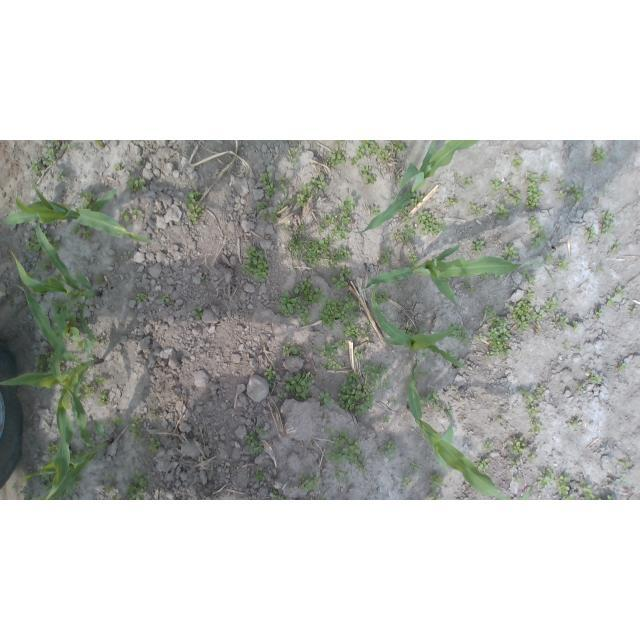Maize: (0, 281, 104, 500), (405, 350, 534, 500), (358, 245, 555, 314), (349, 140, 481, 234), (9, 219, 101, 341), (22, 384, 114, 500), (1, 183, 162, 243), (371, 284, 473, 372)
Weeds: (325, 427, 368, 473), (337, 372, 376, 417), (318, 294, 361, 330), (288, 224, 321, 268), (484, 316, 514, 359), (240, 246, 268, 283), (285, 371, 314, 401), (295, 277, 324, 305), (53, 311, 80, 341), (508, 298, 531, 333), (418, 210, 447, 235), (525, 171, 543, 210), (185, 189, 205, 224), (124, 472, 149, 500), (363, 361, 387, 389), (56, 476, 83, 500), (277, 291, 300, 318), (325, 246, 351, 269), (517, 385, 545, 406), (446, 324, 472, 346), (299, 469, 320, 493), (34, 350, 55, 374), (244, 428, 264, 453), (578, 480, 603, 500), (530, 227, 551, 250), (260, 172, 278, 198), (332, 267, 353, 289), (44, 140, 61, 166), (420, 390, 440, 411), (129, 415, 144, 443), (556, 470, 572, 495), (44, 230, 63, 251), (504, 183, 522, 205), (327, 148, 346, 168), (333, 468, 352, 488), (357, 140, 378, 158), (76, 381, 94, 402), (536, 468, 555, 487), (601, 210, 616, 234), (567, 182, 585, 202), (77, 337, 104, 350), (281, 342, 304, 357), (26, 230, 41, 253), (507, 437, 526, 455), (299, 182, 317, 201), (79, 190, 96, 209), (590, 148, 609, 165), (127, 176, 145, 193), (41, 473, 57, 492), (343, 324, 362, 340), (319, 235, 334, 255), (30, 159, 45, 179), (401, 224, 415, 245), (469, 202, 486, 219), (494, 204, 511, 221), (331, 224, 349, 240), (502, 243, 518, 261), (360, 166, 375, 185), (320, 343, 339, 358), (298, 306, 312, 326), (323, 357, 341, 372), (377, 145, 391, 164), (381, 440, 395, 459), (311, 174, 327, 190), (428, 472, 444, 488), (470, 238, 486, 254), (407, 193, 424, 208), (264, 365, 276, 386), (320, 388, 334, 406), (341, 196, 356, 212), (544, 296, 558, 313), (523, 267, 536, 285), (489, 176, 501, 195), (511, 153, 523, 171), (375, 290, 389, 305), (587, 369, 602, 383), (476, 457, 490, 472), (191, 306, 205, 321), (437, 403, 452, 417), (51, 297, 65, 312), (408, 249, 419, 268), (380, 248, 393, 264), (527, 214, 540, 230), (532, 305, 544, 322), (555, 315, 569, 329), (619, 455, 633, 469), (35, 259, 50, 272), (97, 390, 109, 406), (585, 226, 597, 242), (45, 442, 59, 455), (528, 421, 542, 434), (393, 141, 406, 155), (463, 277, 475, 292), (323, 212, 338, 224), (68, 449, 84, 460), (255, 466, 265, 483), (148, 438, 160, 452), (609, 241, 623, 253), (401, 475, 412, 490), (272, 489, 287, 500), (134, 292, 150, 302), (483, 439, 495, 452), (338, 212, 350, 225), (554, 190, 566, 203), (270, 208, 280, 223), (52, 273, 67, 283), (543, 251, 553, 266), (556, 258, 568, 270), (296, 194, 306, 208), (415, 369, 429, 379), (427, 490, 441, 500), (122, 210, 131, 225), (484, 307, 496, 318), (574, 381, 586, 392), (566, 419, 578, 430), (256, 201, 268, 212), (288, 148, 300, 159), (353, 348, 364, 360), (614, 284, 625, 296), (96, 376, 109, 386), (71, 222, 81, 235), (606, 294, 616, 307), (593, 309, 604, 320), (527, 450, 537, 462), (278, 174, 290, 184), (402, 326, 414, 336), (339, 339, 349, 351), (26, 269, 38, 279), (615, 475, 630, 483), (446, 196, 458, 206), (509, 460, 522, 469), (56, 171, 69, 180), (106, 472, 117, 482), (528, 407, 539, 417), (617, 361, 628, 371), (160, 293, 172, 302), (82, 226, 91, 238), (480, 270, 493, 278), (541, 172, 549, 185), (113, 417, 123, 427), (463, 177, 473, 187), (22, 492, 33, 501), (131, 207, 142, 216), (277, 200, 288, 209), (411, 460, 419, 472), (370, 206, 380, 215), (440, 276, 451, 284), (475, 333, 483, 344), (572, 318, 579, 330), (382, 415, 391, 424), (114, 161, 122, 171), (392, 230, 400, 240), (61, 143, 71, 151), (149, 409, 157, 419), (261, 209, 268, 220), (317, 223, 324, 234), (562, 495, 577, 500), (7, 298, 15, 307), (562, 341, 571, 349), (351, 157, 360, 165), (403, 213, 411, 222), (398, 206, 407, 214), (416, 326, 425, 334), (382, 381, 391, 389), (96, 275, 104, 284), (277, 391, 287, 398), (424, 349, 430, 360), (514, 475, 522, 483), (556, 177, 564, 185), (448, 350, 457, 357), (124, 252, 133, 259), (281, 184, 288, 193), (494, 274, 501, 283), (68, 394, 72, 409), (311, 496, 326, 500), (365, 323, 373, 330), (362, 331, 369, 339), (392, 398, 399, 406), (630, 307, 637, 315), (453, 173, 461, 180), (287, 195, 293, 204), (200, 275, 206, 283), (607, 494, 615, 500), (137, 159, 142, 168), (105, 485, 112, 491), (575, 345, 582, 351), (465, 481, 471, 488), (309, 345, 315, 352), (333, 140, 343, 144), (395, 174, 400, 182), (310, 442, 316, 448), (317, 364, 324, 369), (598, 267, 605, 272), (398, 285, 403, 291), (392, 194, 397, 200), (497, 419, 504, 423), (371, 276, 376, 281), (112, 495, 117, 500), (292, 161, 297, 166), (260, 339, 265, 344), (60, 358, 64, 364), (370, 420, 374, 423)
